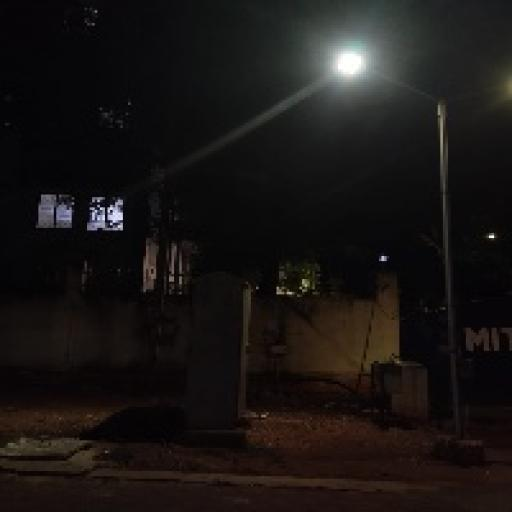Working: (328, 49, 388, 84)
